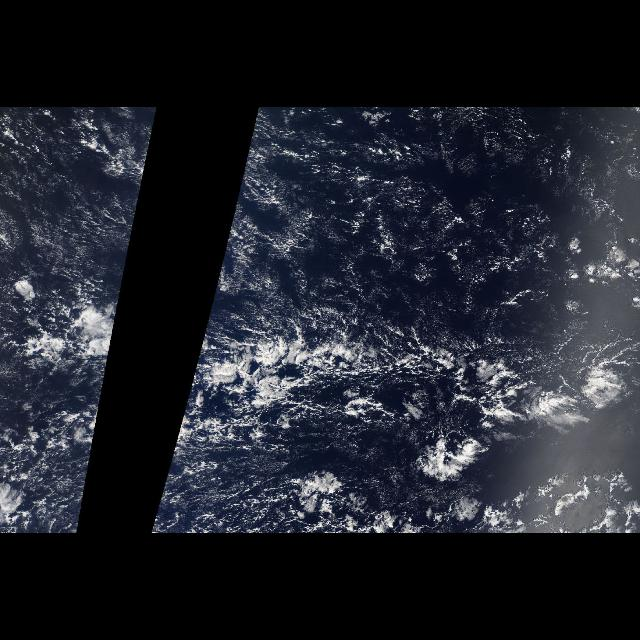Fish: (166, 280, 640, 468), (28, 280, 124, 468)
Sugar: (218, 113, 604, 330), (5, 111, 158, 272)
